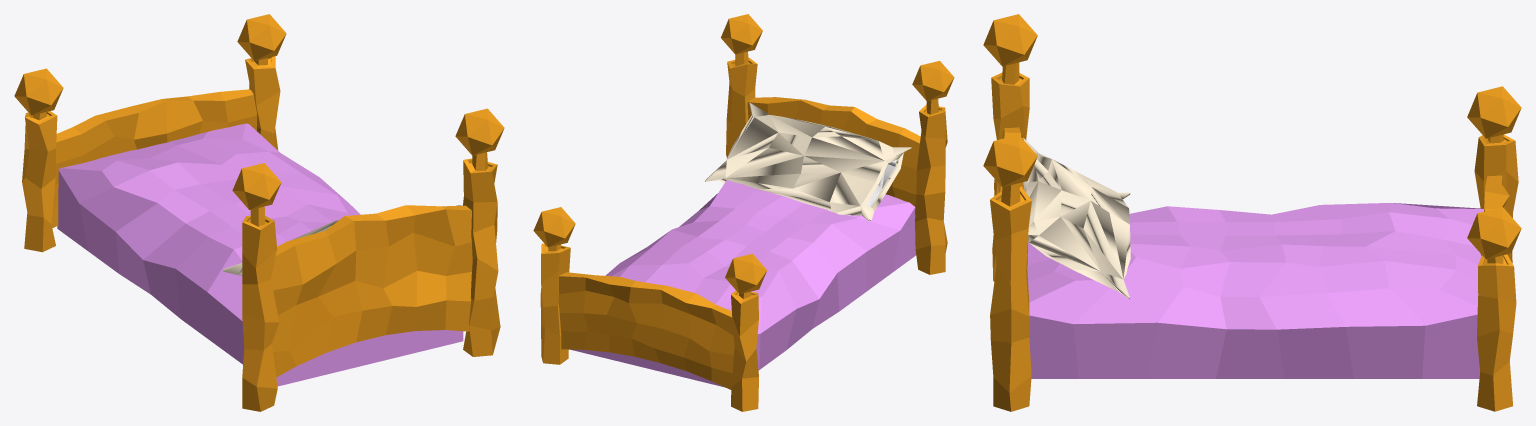
The model's file is stm_env_BedWithPillow2.fbx.
3 renders of one model, left to right at view 1: azimuth 30°, elevation 25°; view 2: azimuth 150°, elevation 25°; view 3: azimuth 270°, elevation 25°, orthographic. The views are drawn at different scales.
Visible parts, largest first — view 1: Cube_3; view 2: Cube_3, Cube_1; view 3: Cube_3, Cube_1.
Part boxes in pixels (box(x1,y1,x2,y2)): Cube_3: box(14, 14, 504, 411); Cube_3: box(533, 14, 954, 411); Cube_1: box(705, 103, 911, 221); Cube_3: box(983, 14, 1521, 411); Cube_1: box(1023, 138, 1130, 299).
Size of the model in its own units: 880 by 761 by 1413.
